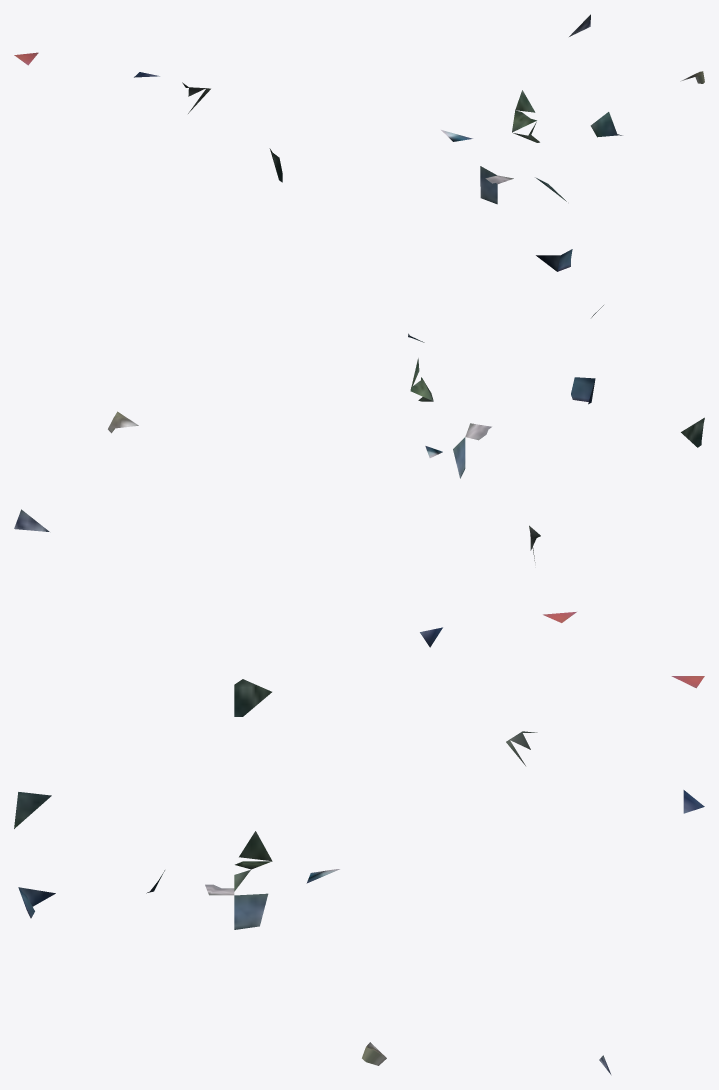
The picture shows the model from 3 angles, top to bottom: view 1: azimuth 30°, elevation 25°; view 2: azimuth 150°, elevation 25°; view 3: azimuth 270°, elevation 25°; orthographic projection. The views are drawn at different scales.
Parts seen in each view (by area): view 1: 3043627270437060463_1; view 2: 3043627270437060463_1; view 3: 3043627270437060463_1.
Boxes of the visible parts, box(x1,y1,x2,y2) form: 3043627270437060463_1: box(14, 14, 704, 271); 3043627270437060463_1: box(14, 305, 704, 647); 3043627270437060463_1: box(14, 676, 704, 1075).
Size of the model in its own units: 54.62 by 9.86 by 50.29.
Materials: 1 (1 with a texture image).
